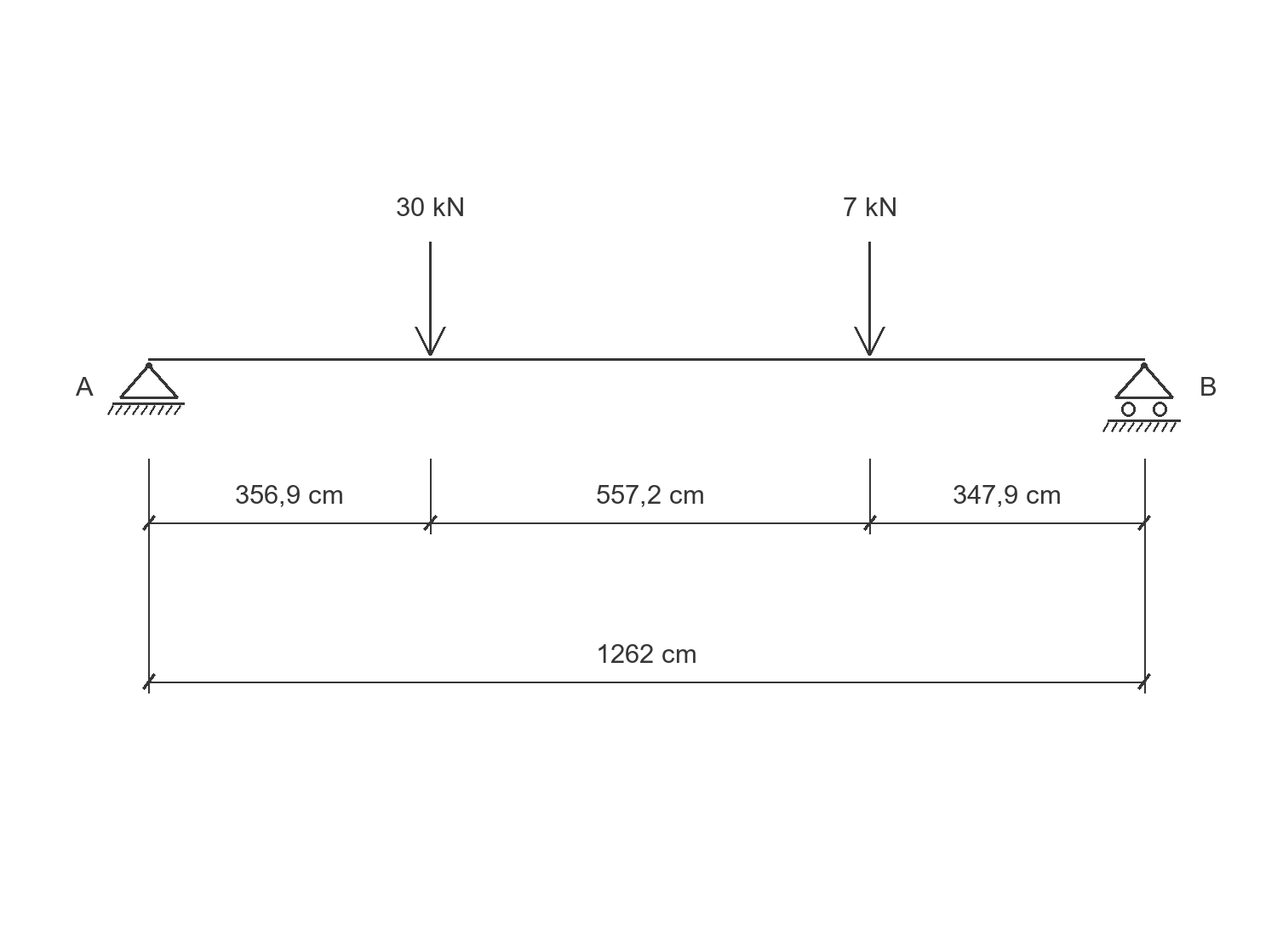pin_support: (107, 362, 185, 415)
point_load: (415, 242, 446, 356), (854, 242, 885, 356)
roller_support: (1102, 362, 1181, 432)
